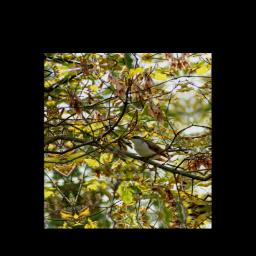Cuckoo: (122, 127, 176, 167)
